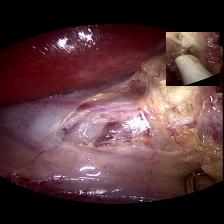Hook: (166, 31, 220, 85)
